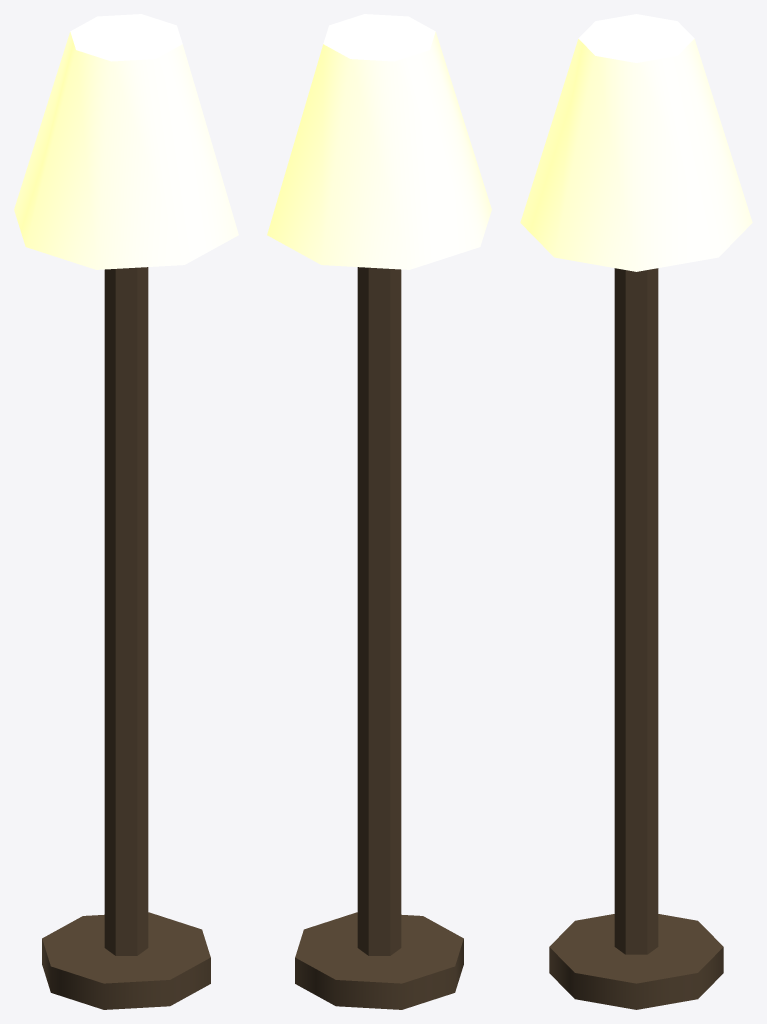
File: v_furn_lamp.glb
3 views of the same model, side by side, from view 1: azimuth 30°, elevation 25°; view 2: azimuth 150°, elevation 25°; view 3: azimuth 270°, elevation 25° (orthographic).
Visible parts, largest first — view 1: FurnLamp; view 2: FurnLamp; view 3: FurnLamp.
Boxes of the visible parts, box(x1,y1,x2,y2) form: FurnLamp: box(14, 14, 238, 1009); FurnLamp: box(267, 14, 491, 1009); FurnLamp: box(520, 14, 752, 1009).
Size of the model in its own units: 0.32 by 1.42 by 0.32.
